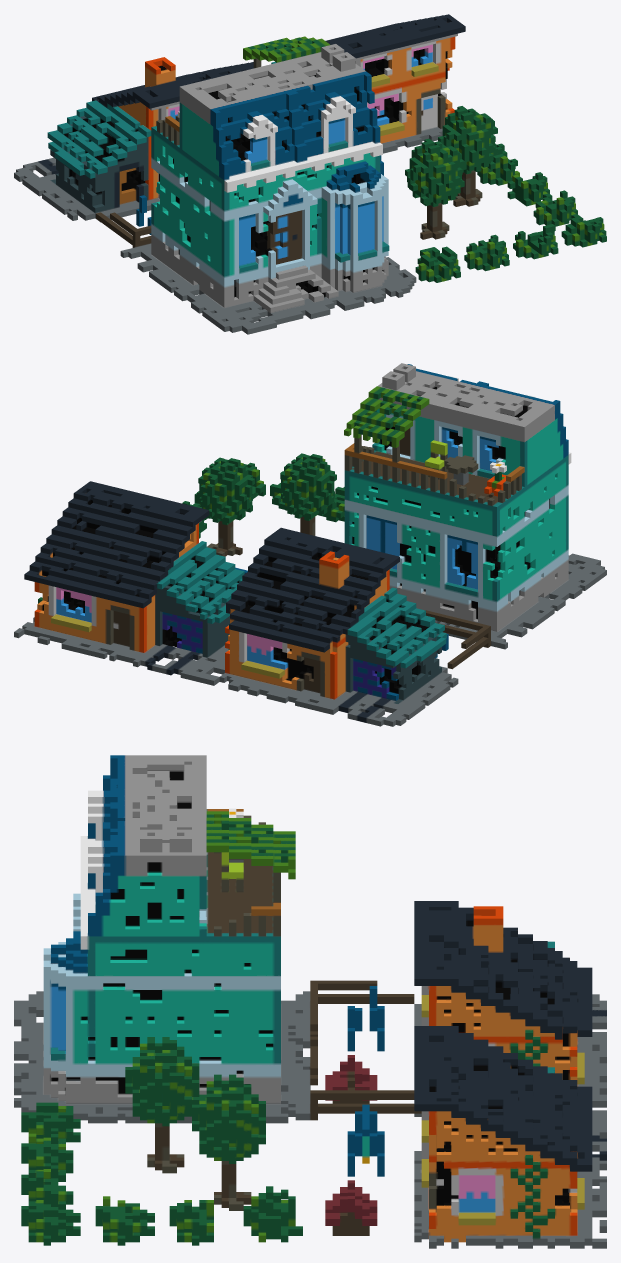
File: building_small_5_damaged.glb
3 renders of one model, top to bottom at view 1: azimuth 30°, elevation 25°; view 2: azimuth 150°, elevation 25°; view 3: azimuth 270°, elevation 25°, orthographic. The views are drawn at different scales.
Visible parts, largest first — view 1: building_small_5_damaged; view 2: building_small_5_damaged; view 3: building_small_5_damaged.
Part boxes in pixels (x1,y1,x2,y2): building_small_5_damaged: (14, 14, 606, 334); building_small_5_damaged: (14, 363, 606, 726); building_small_5_damaged: (14, 755, 606, 1248).
Size of the model in its own units: 8 by 4 by 8.
Materials: 1 (1 with a texture image).
